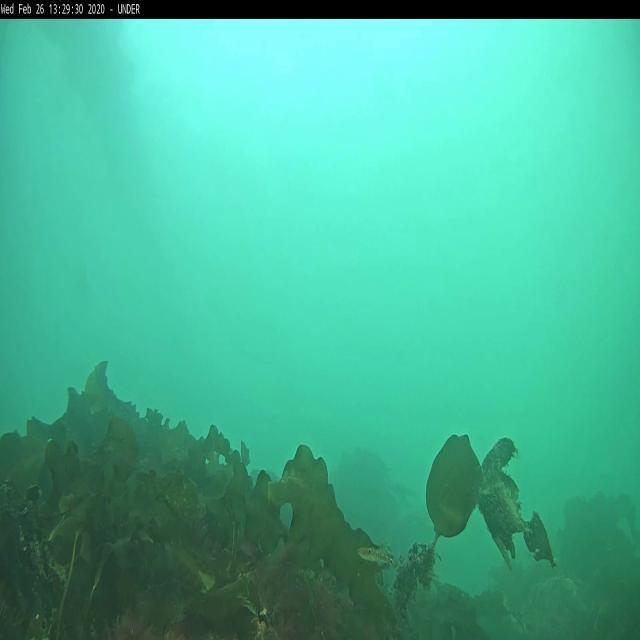fish: (359, 544, 397, 566)
